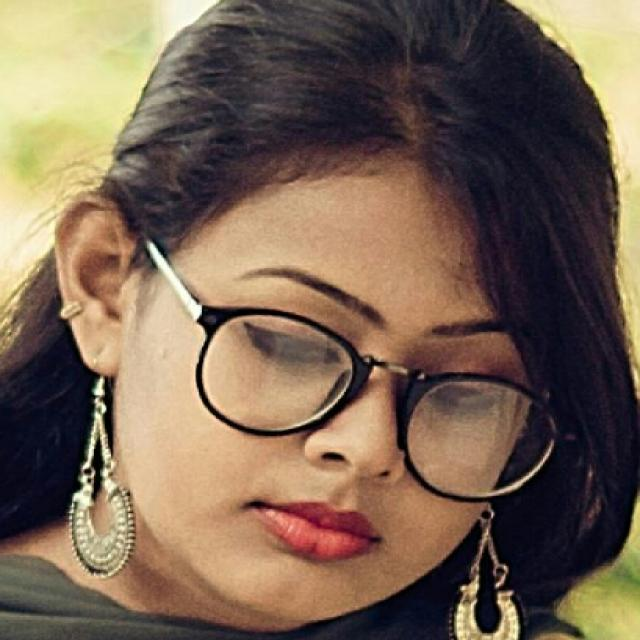front: (156, 219, 499, 602)
